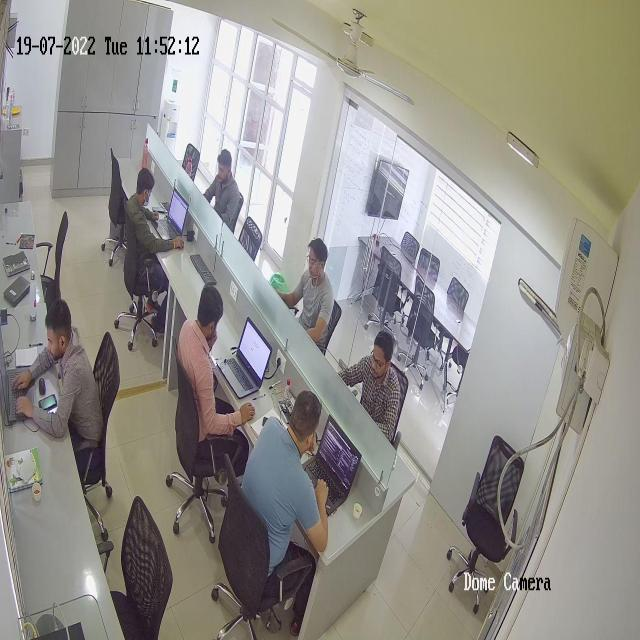chair: (210, 463, 305, 638), (446, 429, 528, 611), (168, 349, 238, 545), (95, 495, 176, 640), (118, 221, 164, 357), (404, 273, 439, 397), (367, 237, 403, 351), (100, 148, 129, 274), (38, 210, 73, 309), (238, 212, 264, 265), (445, 269, 470, 320), (179, 139, 200, 186), (418, 245, 444, 281), (399, 222, 421, 264)
keyboard: (186, 247, 218, 288)
laptop: (294, 404, 363, 517), (218, 320, 273, 408), (0, 314, 38, 427), (147, 184, 189, 247)
person: (240, 387, 326, 603), (178, 279, 253, 477), (27, 298, 104, 482), (123, 167, 181, 311), (339, 326, 402, 436), (283, 235, 341, 353), (203, 146, 243, 230)
phone: (37, 391, 58, 416), (150, 198, 167, 213)
